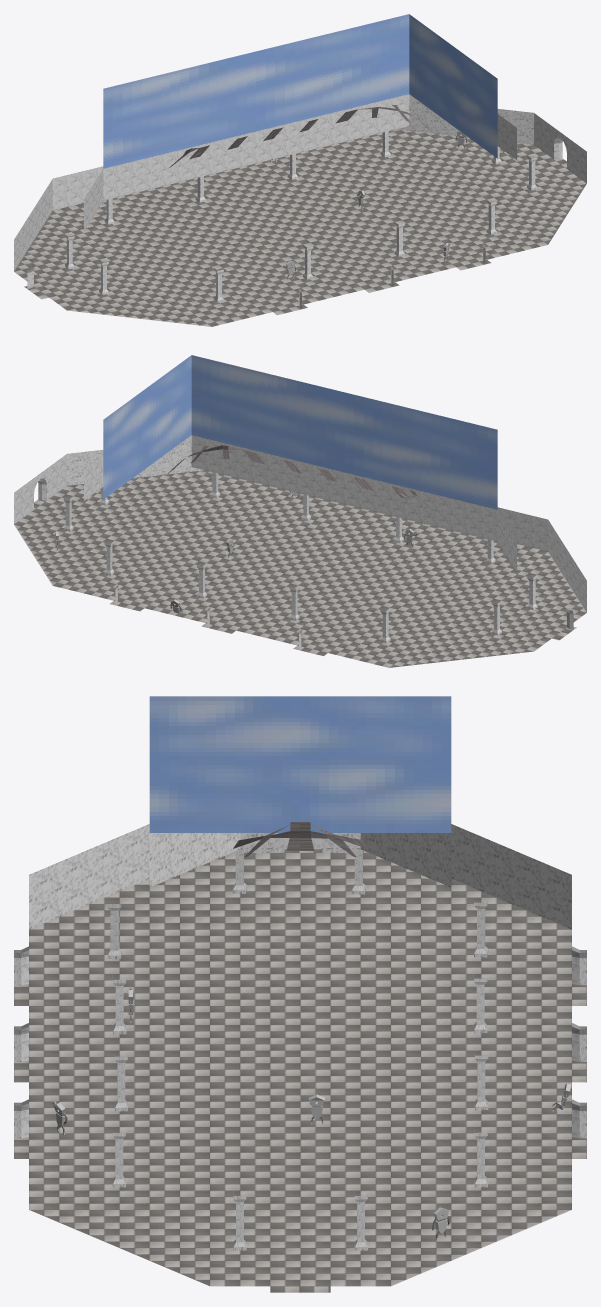
Rendered from Atrium.glb.
3 renders of one model, top to bottom at view 1: azimuth 30°, elevation 25°; view 2: azimuth 150°, elevation 25°; view 3: azimuth 270°, elevation 25°, orthographic. The views are drawn at different scales.
Parts seen in each view (by area): view 1: Floor1.001, Sky.001, Walls.001, Columns.013, Ceilings1.001; view 2: Floor1.001, Sky.001, Walls.001, Columns.013, Ceilings1.001; view 3: Floor1.001, Sky.001, Walls.001, Columns.013, Ceilings1.001.
Part boxes in pixels (x1=…): Floor1.001: x1=14, y1=129, x2=586, y2=326; Sky.001: x1=103, y1=14, x2=497, y2=168; Walls.001: x1=14, y1=94, x2=586, y2=308; Columns.013: x1=65, y1=131, x2=537, y2=302; Ceilings1.001: x1=169, y1=105, x2=434, y2=167; Floor1.001: x1=14, y1=470, x2=586, y2=667; Sky.001: x1=103, y1=355, x2=497, y2=509; Walls.001: x1=14, y1=435, x2=586, y2=649; Columns.013: x1=64, y1=472, x2=537, y2=643; Ceilings1.001: x1=166, y1=445, x2=431, y2=508; Floor1.001: x1=14, y1=849, x2=586, y2=1292; Sky.001: x1=149, y1=696, x2=451, y2=832; Walls.001: x1=14, y1=824, x2=586, y2=1138; Columns.013: x1=107, y1=849, x2=488, y2=1250; Ceilings1.001: x1=230, y1=822, x2=367, y2=856.
Size of the model in its own units: 350 by 90.2 by 190.
Materials: 6 (6 with a texture image).
